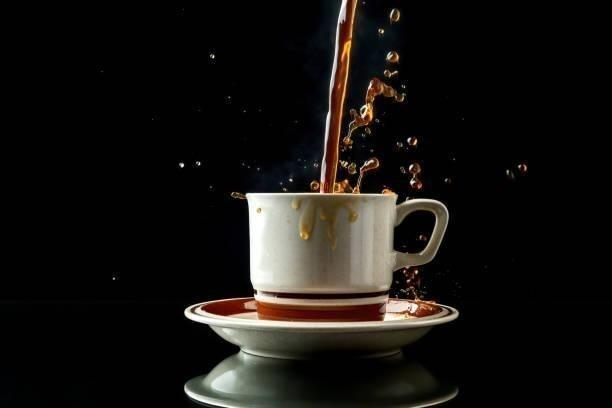cup-handle: (244, 190, 449, 322)
